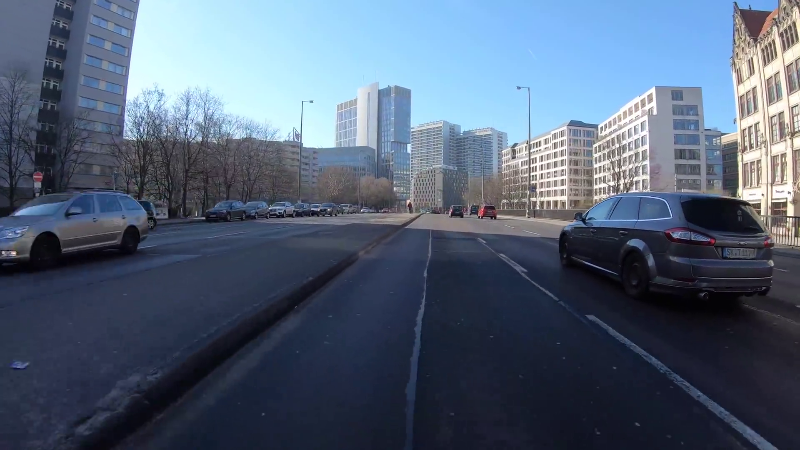Plate: (719, 245, 758, 259)
